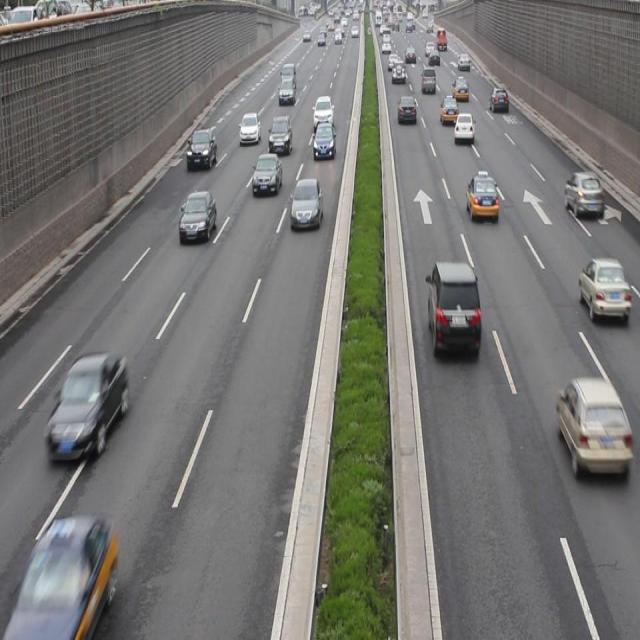car: (15, 516, 115, 632), (46, 354, 125, 461), (556, 376, 624, 486), (425, 262, 480, 364), (578, 254, 628, 324), (563, 170, 601, 218), (289, 178, 322, 230), (465, 172, 497, 224), (180, 194, 216, 240), (188, 126, 215, 170), (253, 153, 281, 194), (268, 115, 291, 156), (312, 121, 335, 159), (312, 96, 334, 132), (238, 112, 260, 145), (453, 112, 473, 143)
